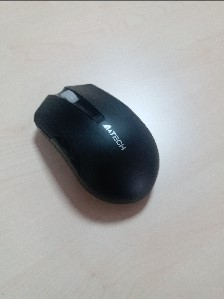mouse: (30, 84, 158, 208)
